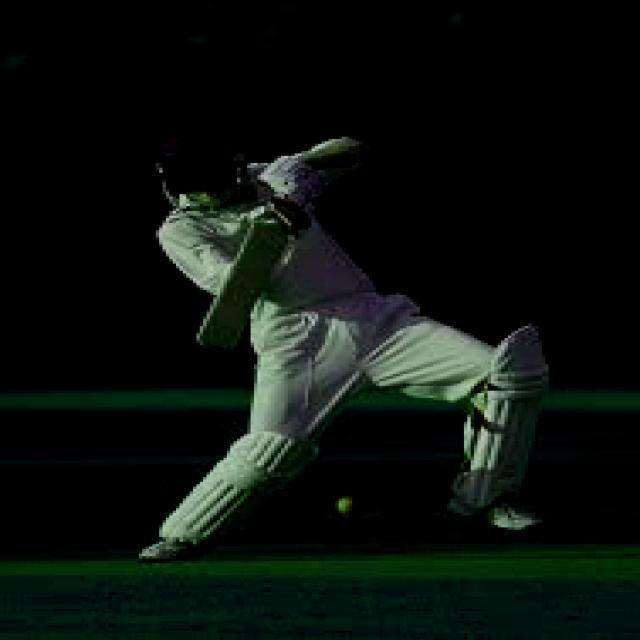bat: (189, 213, 275, 364)
toe: (188, 336, 222, 358)
